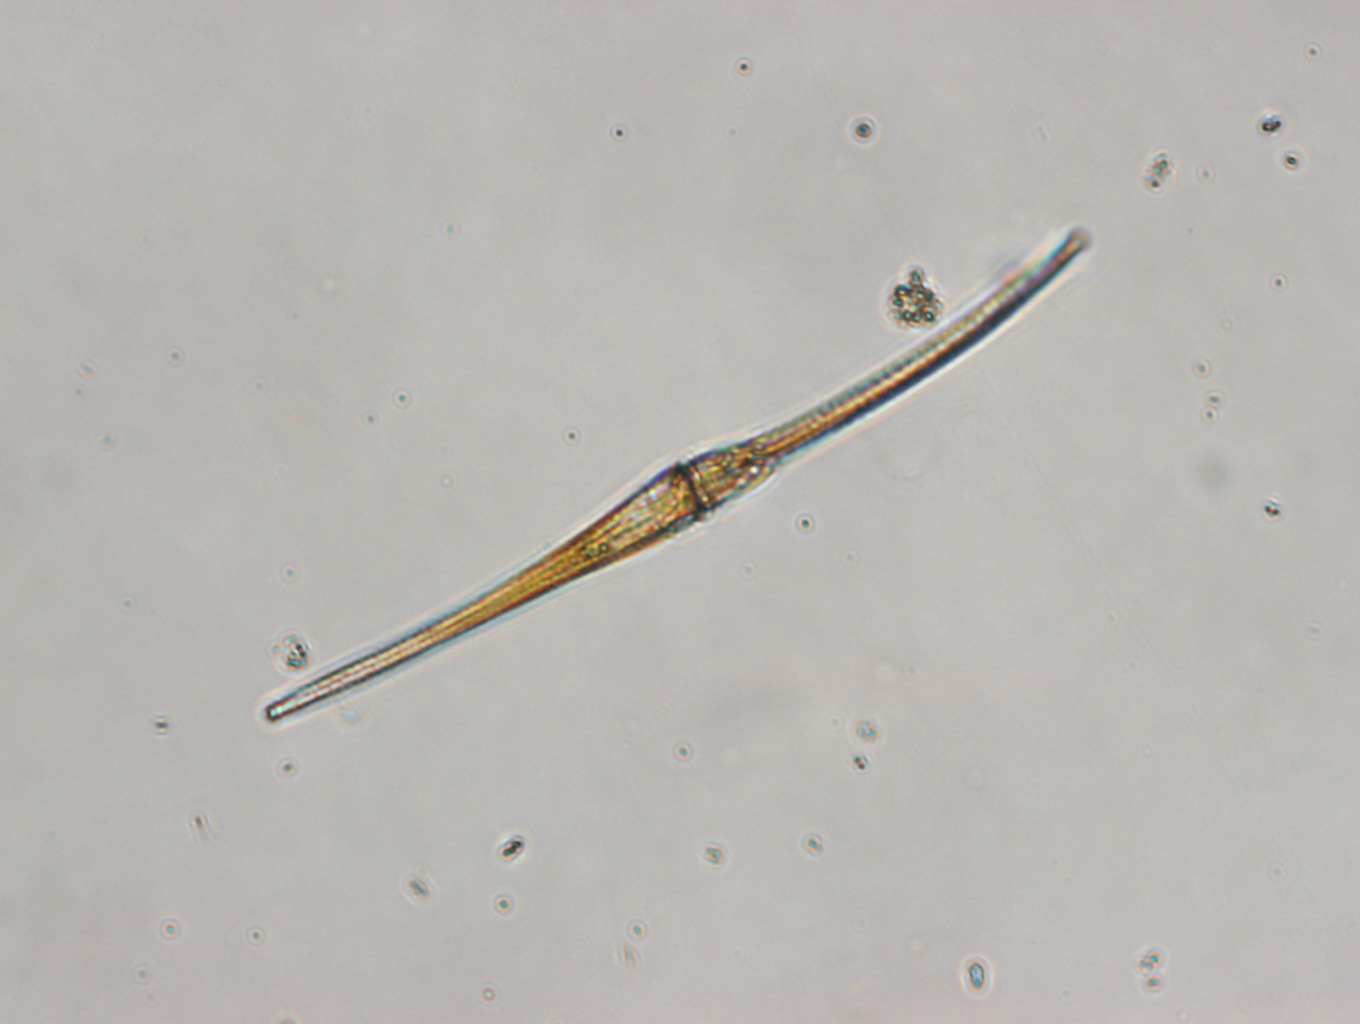ceratium fusus: (263, 224, 1096, 725)
